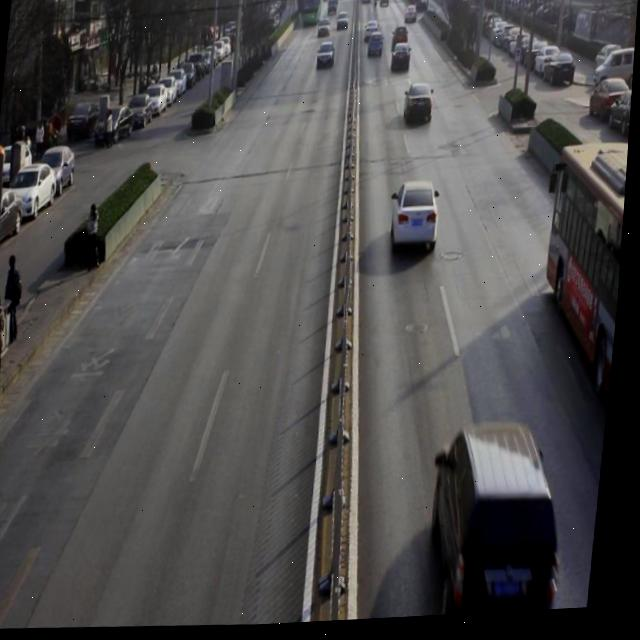car: (429, 422, 581, 621), (390, 185, 445, 260), (403, 84, 438, 133), (389, 43, 415, 78), (316, 42, 338, 75)
van: (538, 146, 631, 415)
